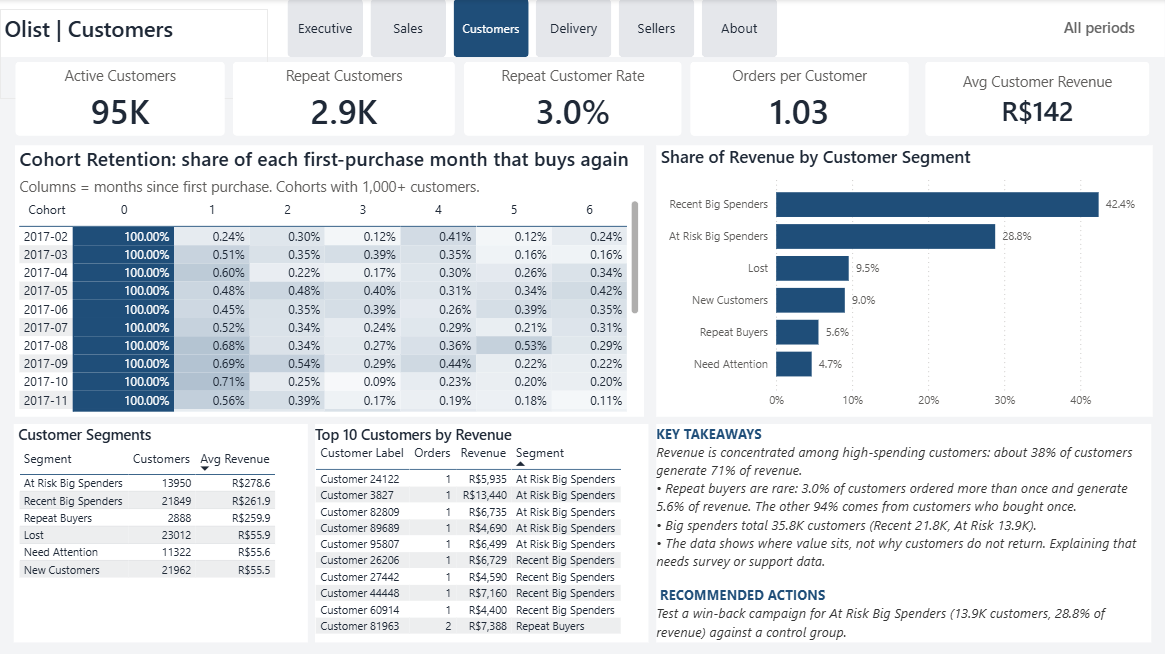

The page's visual inventory and layout, read from the dashboard file:
{"tool":"powerbi","page":{"name":"Customers","canvas":[1280,720],"ordinal":2},"visuals":[{"type":"shape","box":[0,0,1280.3,63.8],"z":0},{"type":"textbox","box":[0,10.9,294,99.6],"z":1000},{"type":"pageNavigator","box":[315.6,0,541.1,64.4],"z":3000},{"type":"textbox","box":[1136.1,15.4,143.9,49.9],"z":4000},{"type":"cardVisual","fields":{"Data":["_Measures.Active Customers"]},"box":[0,52.6,264.2,115],"z":5000},{"type":"cardVisual","fields":{"Data":["_Measures.Repeat Customers"]},"box":[239.3,52.6,278.5,115],"z":6000},{"type":"cardVisual","fields":{"Data":["_Measures.Repeat Customer Rate"]},"box":[493,52.6,273.3,115],"z":7000},{"type":"cardVisual","fields":{"Data":["_Measures.Orders per Buyer"]},"box":[741.5,52.3,274.6,115],"z":8000},{"type":"cardVisual","fields":{"Data":["_Measures.Avg Customer Revenue"]},"box":[1000,52.2,280,115],"z":9000},{"type":"pivotTable","title":"Cohort Retention: share of each first-purchase month that buys again","fields":{"Rows":["analytics cohort_retention.cohort_month"],"Columns":["analytics cohort_retention.months_since_first"],"Values":["_Measures.Retention %"]},"box":[16.3,161.1,691,298.1],"z":10000},{"type":"clusteredBarChart","title":"Share of Revenue by Customer Segment","fields":{"Category":["analytics customer_rfm.segment"],"Y":["_Measures.Segment Revenue %"]},"box":[721,161.1,545.4,298.1],"z":11000},{"type":"tableEx","title":"Top 10 Customers by Revenue","fields":{"Values":["analytics customer_rfm.Customer Label","Sum(analytics customer_rfm.frequency)","Sum(analytics customer_rfm.monetary)","analytics customer_rfm.segment"]},"box":[364.6,467.3,374.6,240.4],"z":12000},{"type":"tableEx","title":"Customer Segments","fields":{"Values":["analytics customer_rfm.segment","_Measures.Segment Customers","_Measures.Avg Customer Revenue"]},"box":[15,467.3,343.7,240.4],"z":13000},{"type":"textbox","box":[752.2,467.6,513.3,240.4],"z":14000}]}

Visuals, with their boxes in screenshot pixels (x1, y1, x2, y2), scaled from the page's 1280x720 canvas onto the 1165x654 screenshot:
shape: box(0, 0, 1164, 58)
textbox: box(0, 10, 268, 100)
pageNavigator: box(287, 0, 780, 58)
textbox: box(1034, 14, 1164, 59)
cardVisual - _Measures.Active Customers: box(0, 48, 240, 152)
cardVisual - _Measures.Repeat Customers: box(218, 48, 471, 152)
cardVisual - _Measures.Repeat Customer Rate: box(449, 48, 697, 152)
cardVisual - _Measures.Orders per Buyer: box(675, 48, 925, 152)
cardVisual - _Measures.Avg Customer Revenue: box(910, 47, 1164, 152)
"Cohort Retention: share of each first-purchase month that buys again" pivotTable: box(15, 146, 644, 417)
"Share of Revenue by Customer Segment" clusteredBarChart: box(656, 146, 1153, 417)
"Top 10 Customers by Revenue" tableEx: box(332, 424, 673, 643)
"Customer Segments" tableEx: box(14, 424, 326, 643)
textbox: box(685, 425, 1152, 643)
